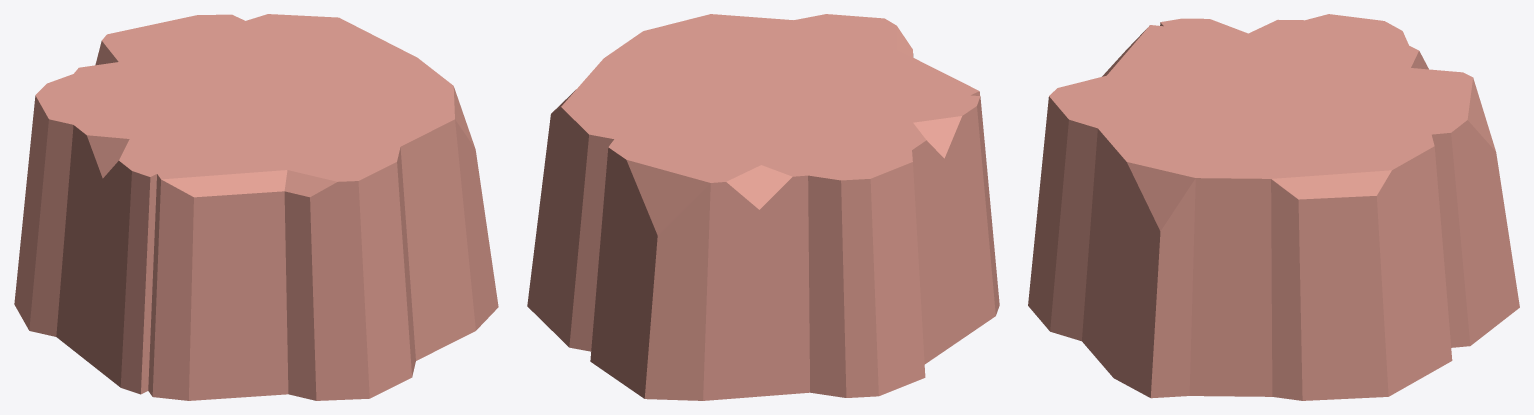
The model's file is SuperGrid_Hexagon_015_Vlad.fbx.
3 views of the same model, side by side, from view 1: azimuth 30°, elevation 25°; view 2: azimuth 150°, elevation 25°; view 3: azimuth 270°, elevation 25° (orthographic).
Visible parts, largest first — view 1: SuperGrid_Hexagon.015; view 2: SuperGrid_Hexagon.015; view 3: SuperGrid_Hexagon.015.
Part boxes in pixels (x1,y1,x2,y2): SuperGrid_Hexagon.015: (14,14,498,400); SuperGrid_Hexagon.015: (527,14,999,400); SuperGrid_Hexagon.015: (1028,14,1519,400).
Size of the model in its own units: 19006 by 10000 by 21302.
